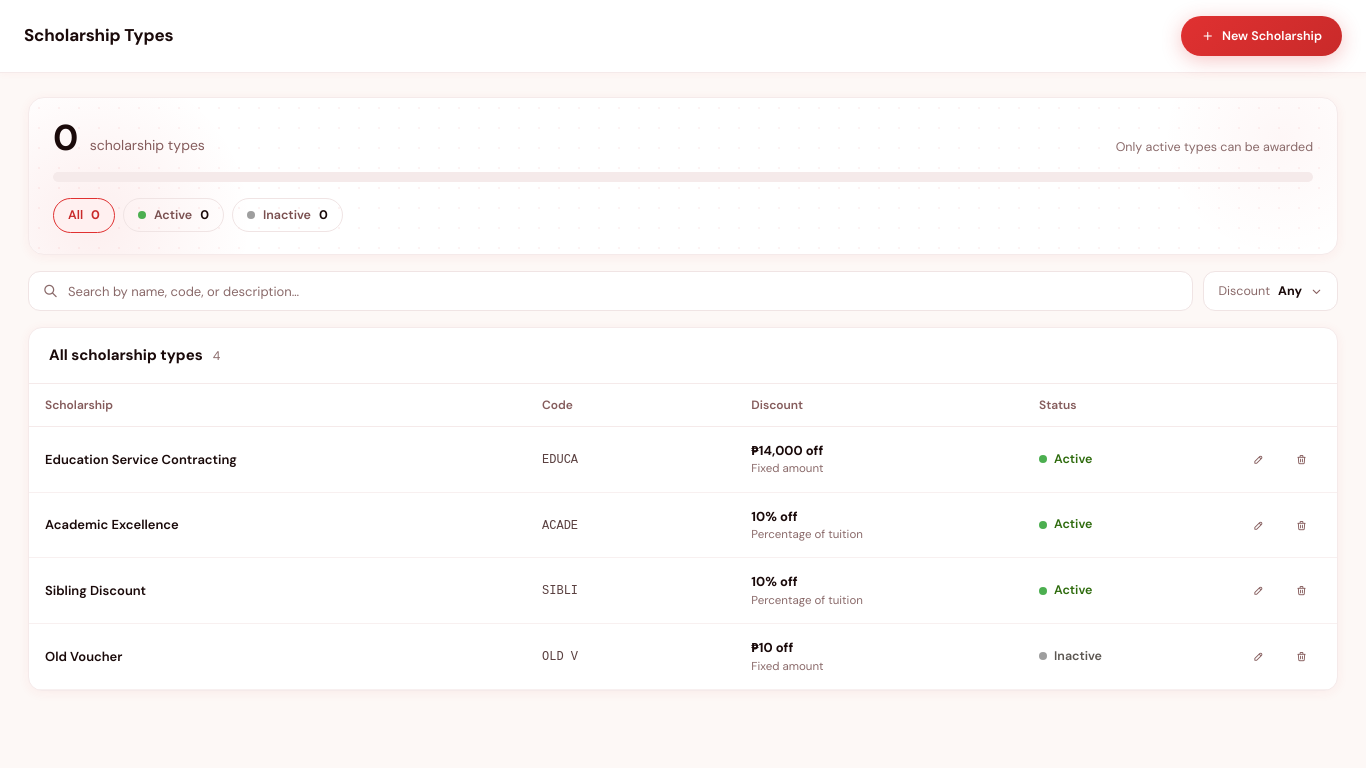
Test: Scholarship types — band and filters › counts which types can be awarded, and filters by it
Expected: the text "Academic Excellence" is shown, x1=45 y1=516 x2=179 y2=533
Expected: the button with aria-label "Active 3" is shown, x1=123 y1=198 x2=224 y2=232
Click the button with aria-label "Inactive 1". click: {"x": 287, "y": 215}
box: x1=232 y1=198 x2=343 y2=232
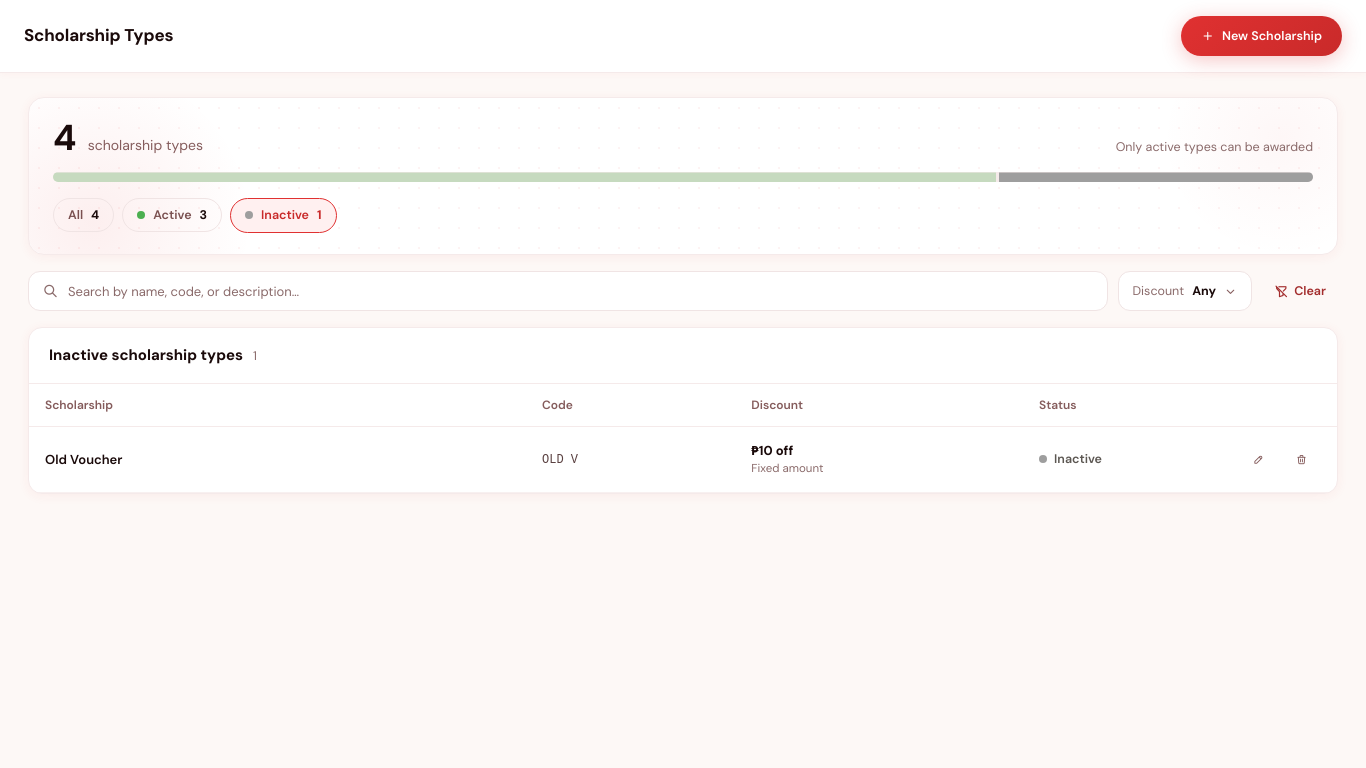
Expected: the text "Old Voucher" is shown, x1=45 y1=450 x2=122 y2=468
Now the button "Academic Excellence" is gone
Now the heading "Inactive scholarship types" is shown, box x1=49 y1=344 x2=243 y2=367
